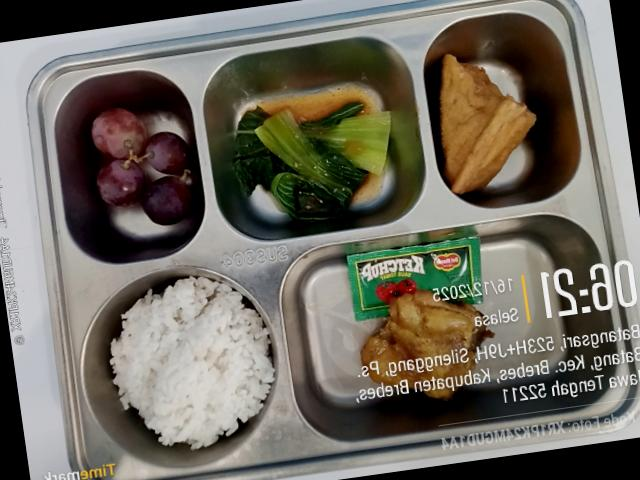ayam: (360, 290, 492, 400)
buah: (90, 108, 191, 225)
nasi: (109, 277, 274, 449)
sayur: (232, 102, 391, 221)
tahu: (439, 54, 505, 185)
